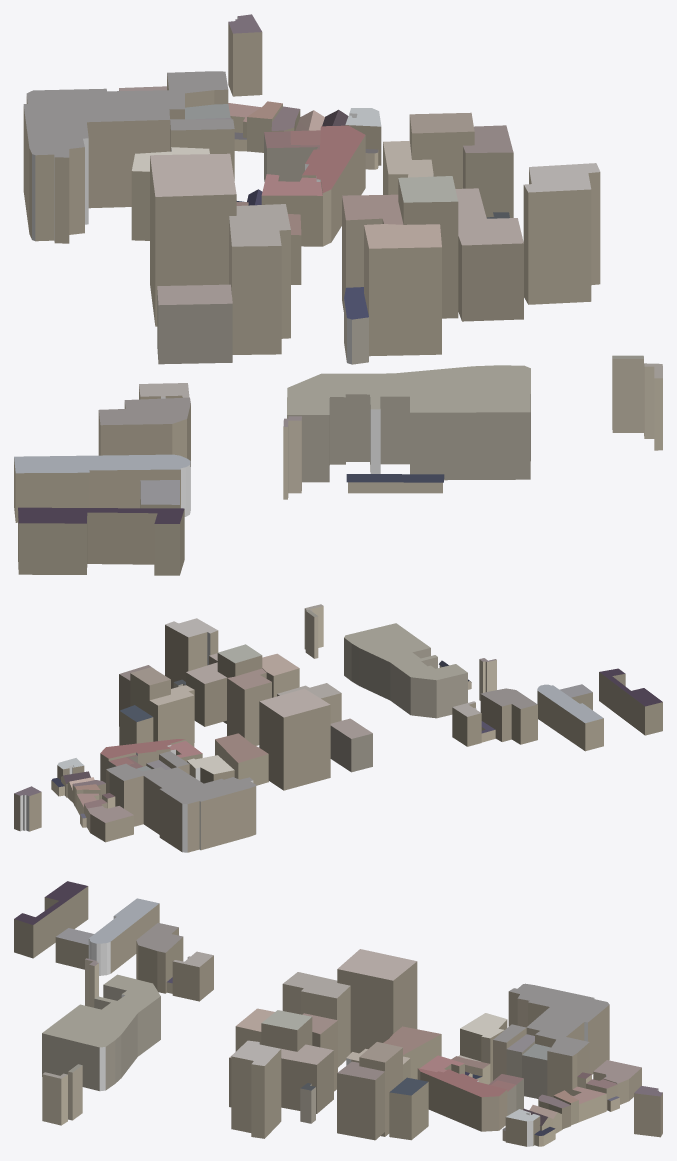
The picture shows the model from 3 angles, top to bottom: view 1: azimuth 30°, elevation 25°; view 2: azimuth 150°, elevation 25°; view 3: azimuth 270°, elevation 25°; orthographic projection. The views are drawn at different scales.
Visible parts, largest first — view 1: tuile; view 2: tuile; view 3: tuile.
Part boxes in pixels (left/top/right/bottom): tuile: left=14, top=14, right=662, bottom=575; tuile: left=14, top=604, right=662, bottom=852; tuile: left=14, top=881, right=662, bottom=1146.
Bounding box in the file's own units: 227 × 41.6 × 270.
